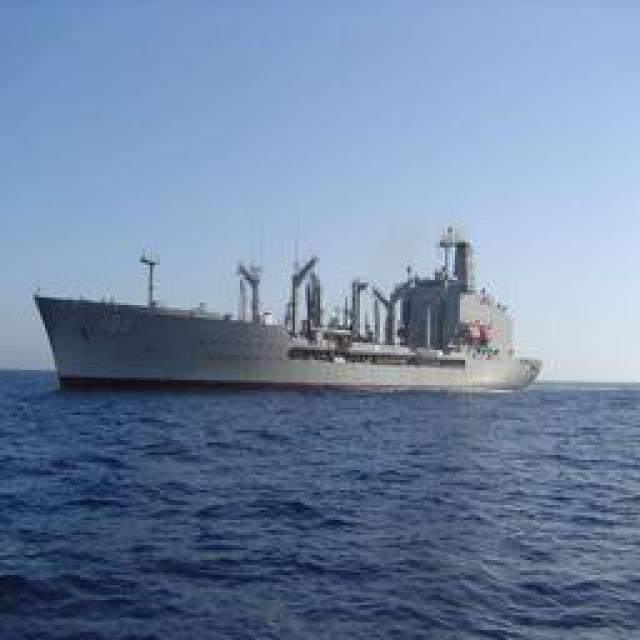Ship: (4, 218, 537, 396)
